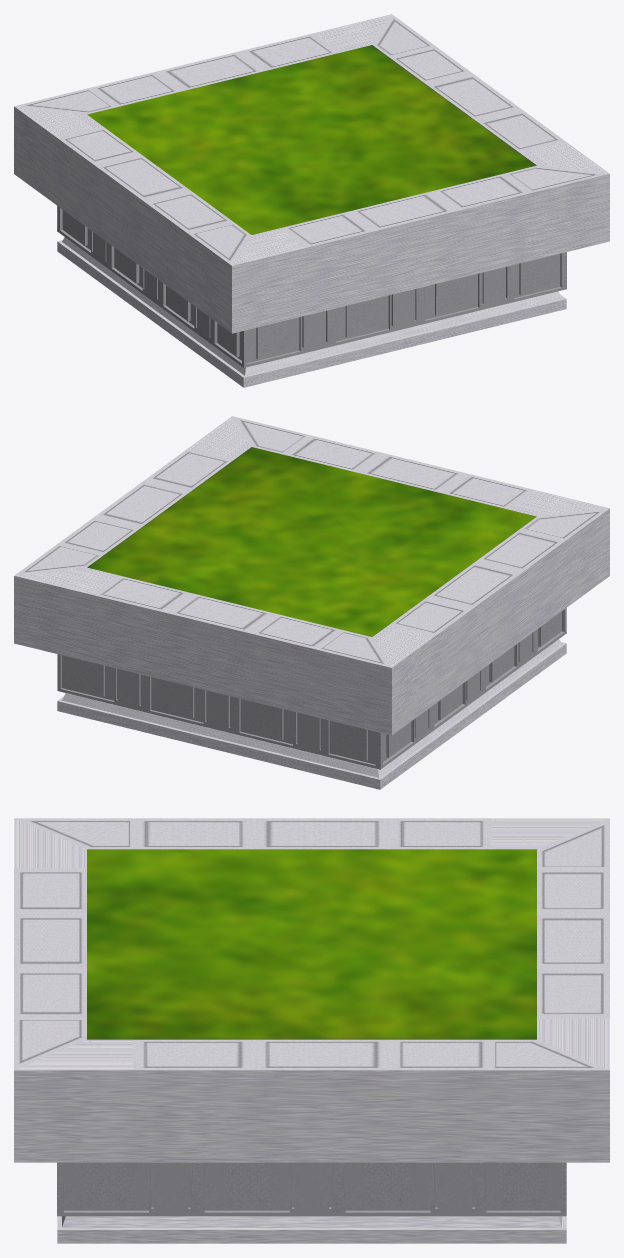
File: BomberMan_Stage_Center.fbx
3 renders of one model, top to bottom at view 1: azimuth 30°, elevation 25°; view 2: azimuth 150°, elevation 25°; view 3: azimuth 270°, elevation 25°, orthographic. The views are drawn at different scales.
Visible parts, largest first — view 1: polySurface8; view 2: polySurface8; view 3: polySurface8.
Boxes of the visible parts, x1=… form: polySurface8: x1=14, y1=14, x2=609, y2=387; polySurface8: x1=14, y1=416, x2=609, y2=789; polySurface8: x1=14, y1=818, x2=609, y2=1243.
Size of the model in its own units: 13.71 by 4.86 by 13.71.
